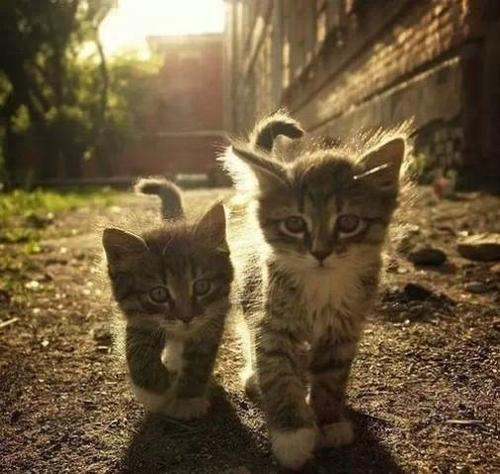cat: (232, 136, 432, 264), (88, 212, 248, 341)
